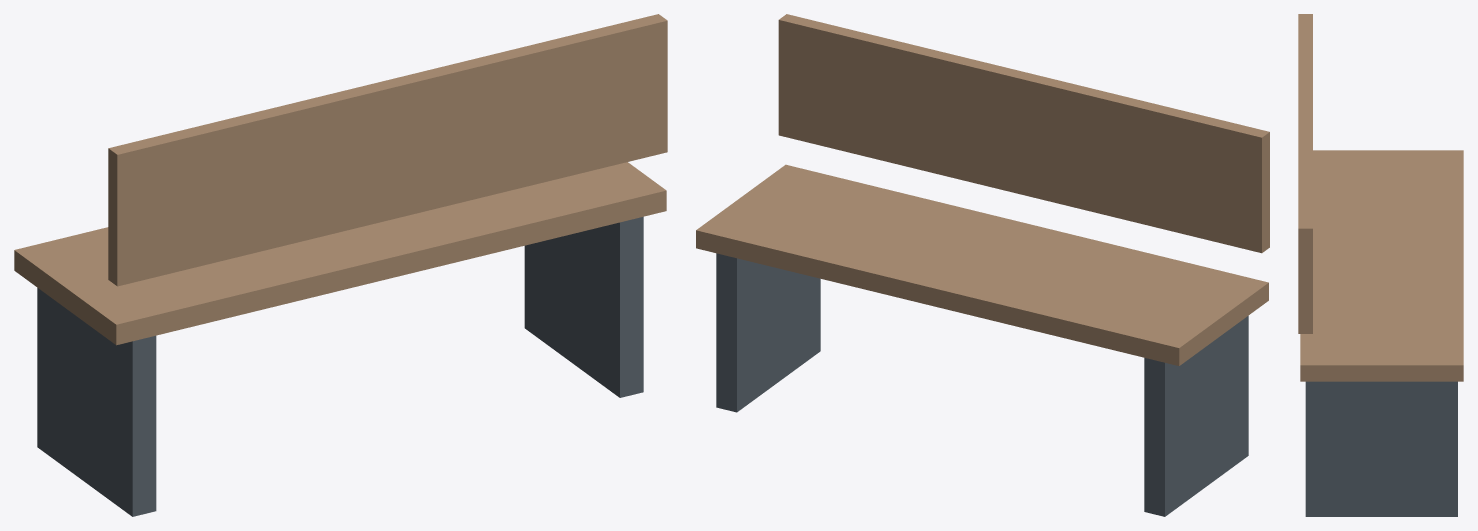
The model's file is park_bench.glb.
The picture shows the model from 3 angles, left to right: view 1: azimuth 30°, elevation 25°; view 2: azimuth 150°, elevation 25°; view 3: azimuth 270°, elevation 25°; orthographic projection. The views are drawn at different scales.
Size of the model in its own units: 1.4 by 0.9 by 0.455.
